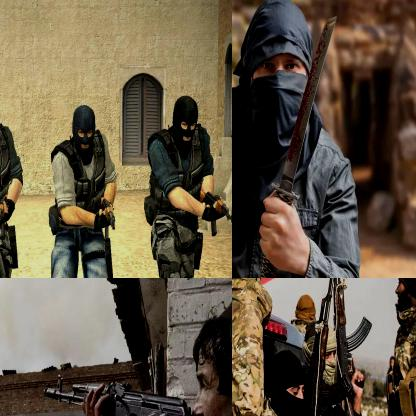knife: (257, 14, 338, 277)
rifle: (44, 372, 231, 415), (299, 278, 352, 415), (327, 278, 371, 388), (195, 188, 231, 238), (97, 197, 119, 231)
